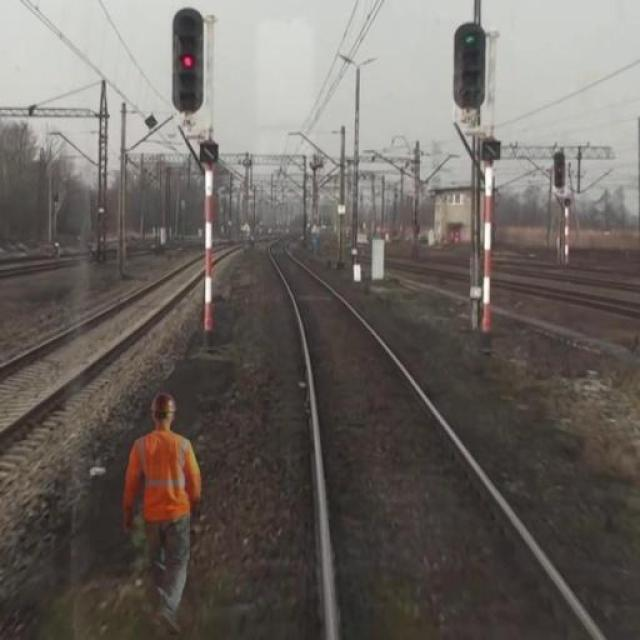people: (122, 383, 214, 637)
